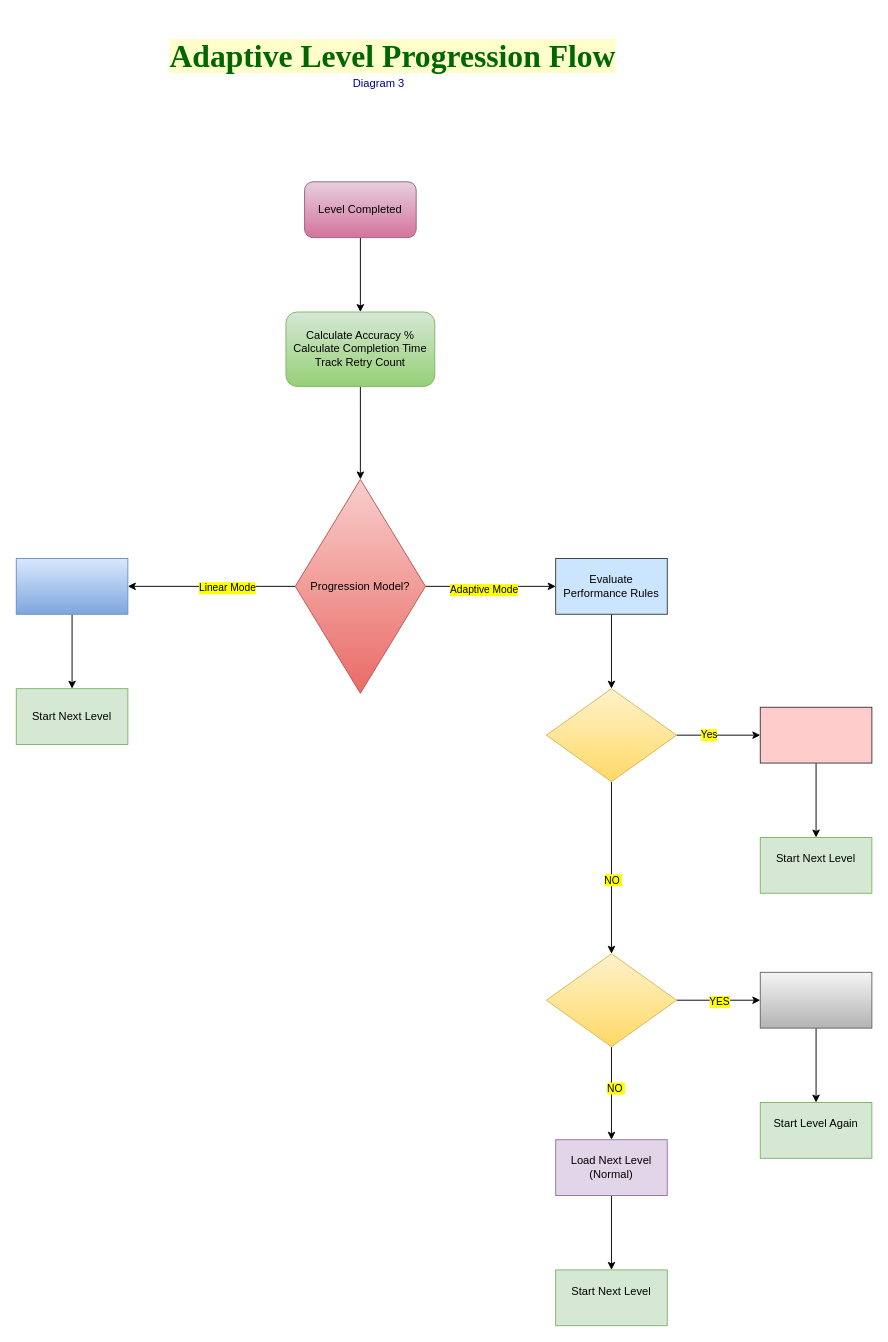
Some shapes in this 888 by 1342 pixel diagram are drawn without their labels. The shapes that lost their labels are listed below. From the top down, each one's centre as x and y in pixels, then its label:
At point 71,586: "Load Next Level (Sequential)".
At point 611,735: "Accuracy > 80% ?".
At point 815,734: "Skip to Higher Difficulty".
At point 611,1000: "Accuracy < 50% ?".
At point 815,999: "Repeat Same Level".
